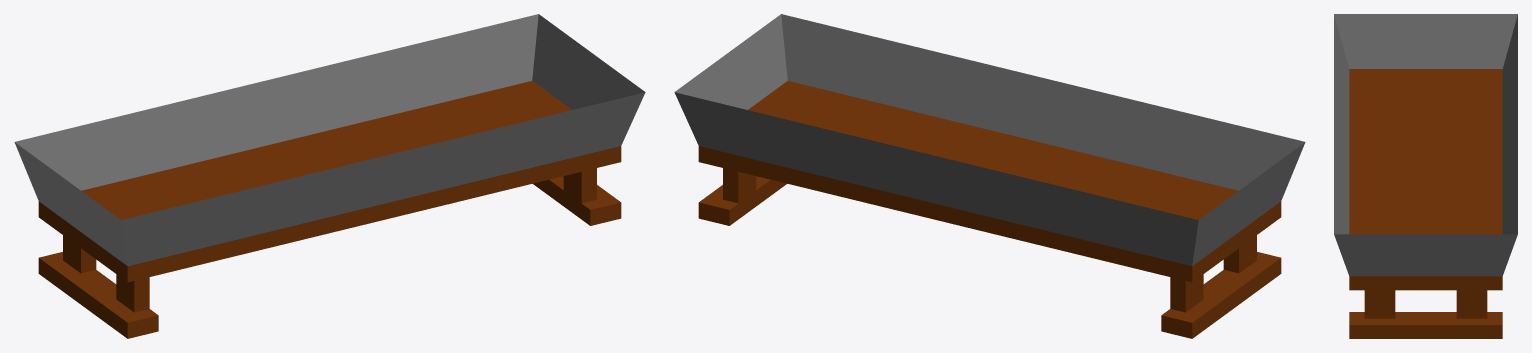
File: Foodtrough.obj
3 renders of one model, left to right at view 1: azimuth 30°, elevation 25°; view 2: azimuth 150°, elevation 25°; view 3: azimuth 270°, elevation 25°, orthographic. The views are drawn at different scales.
Visible parts, largest first — view 1: Foodtrough_back; view 2: Foodtrough_back; view 3: Foodtrough_back.
Boxes of the visible parts, box(x1,y1,x2,y2) form: Foodtrough_back: box(14, 14, 645, 338); Foodtrough_back: box(674, 14, 1305, 338); Foodtrough_back: box(1334, 14, 1517, 338).
Size of the model in its own units: 2.72 by 0.64 by 0.96.
